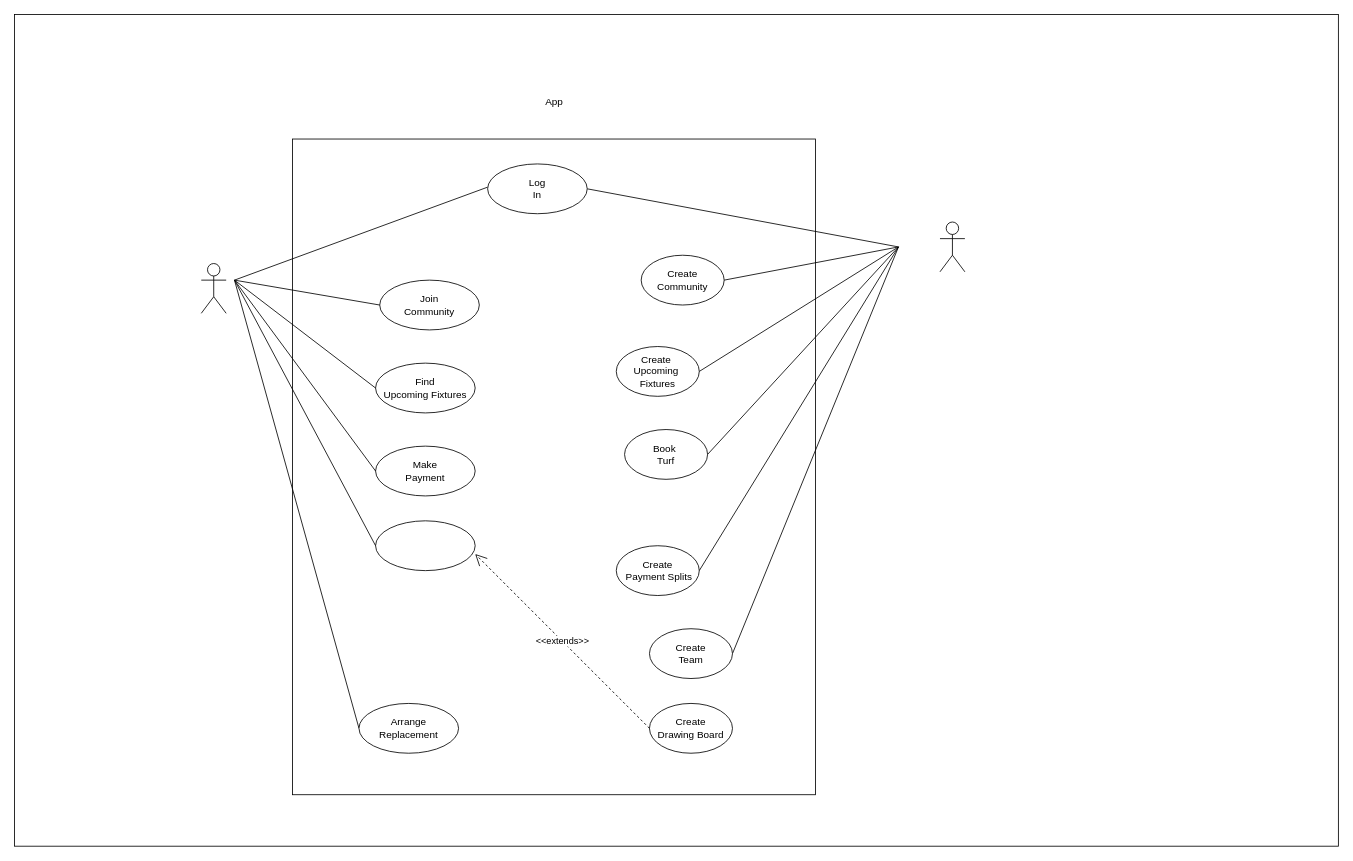
Some shapes in this 1353 by 861 pixel diagram are drawn without their labels. The centre of each missing label's shape, as x and y in pixels:
Community Head: the point at 952,246
User: the point at 213,288
View Drawing Board: the point at 425,545
